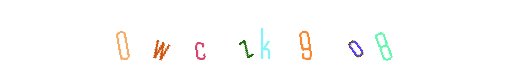0: (111, 0, 191, 80)
8: (333, 0, 413, 80)
9: (238, 0, 318, 80)
C: (196, 0, 276, 80)
K: (224, 0, 304, 80)
O: (316, 0, 396, 80)
W: (159, 0, 239, 80)
Z: (220, 0, 300, 80)
